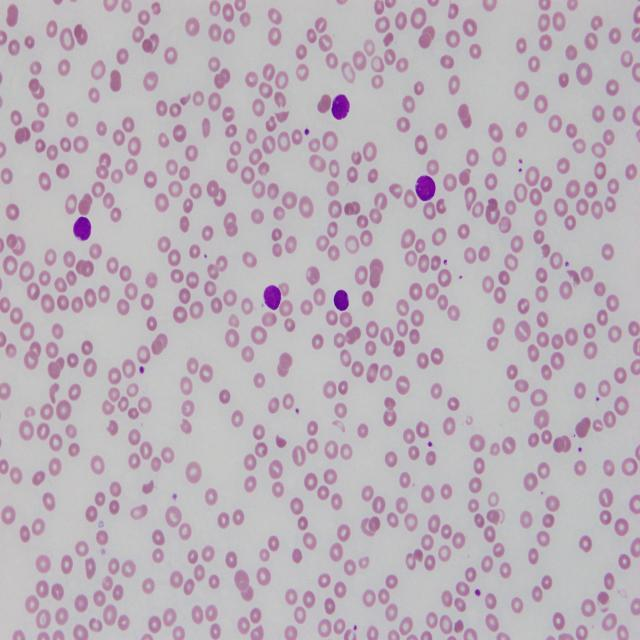cell: (415, 175, 435, 202), (331, 95, 350, 120), (72, 217, 91, 240), (264, 285, 281, 310), (334, 290, 349, 311)
